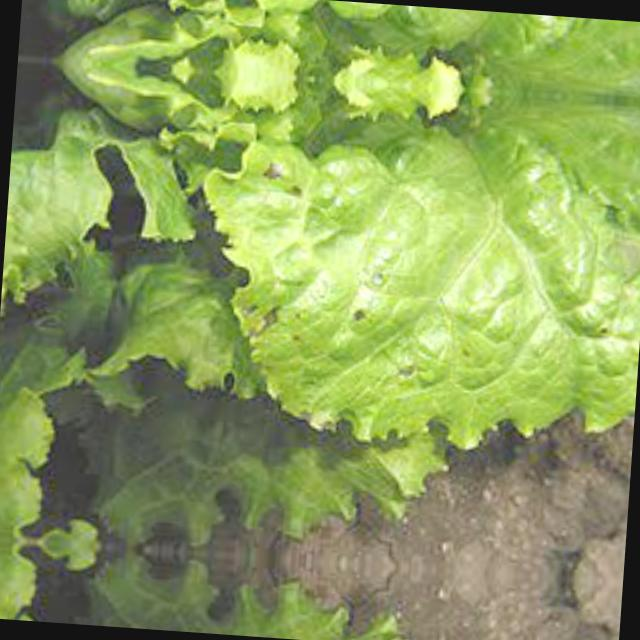Lettuce - Anthracnose: (130, 129, 550, 440), (158, 0, 559, 33)
